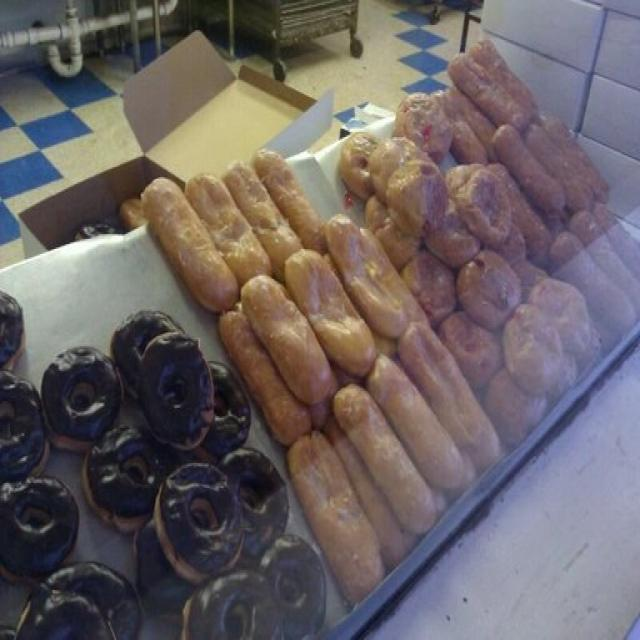Donuts: (7, 40, 640, 638)
